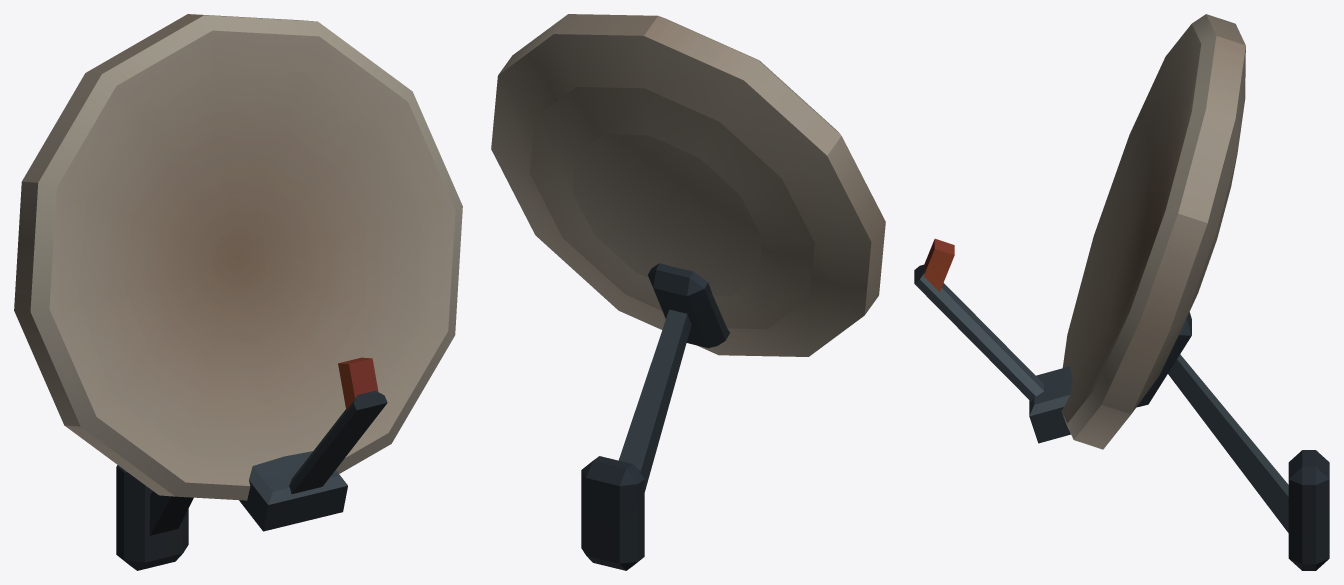
Rendered from satellite_dish.fbx.
3 views of the same model, side by side, from view 1: azimuth 30°, elevation 25°; view 2: azimuth 150°, elevation 25°; view 3: azimuth 270°, elevation 25° (orthographic). The views are drawn at different scales.
Parts seen in each view (by area): view 1: satellite_dish; view 2: satellite_dish; view 3: satellite_dish.
Part boxes in pixels (x1,y1,x2,y2): satellite_dish: [14, 14, 462, 570]; satellite_dish: [491, 14, 885, 570]; satellite_dish: [914, 14, 1329, 570].
Size of the model in its own units: 132 by 171 by 122.
